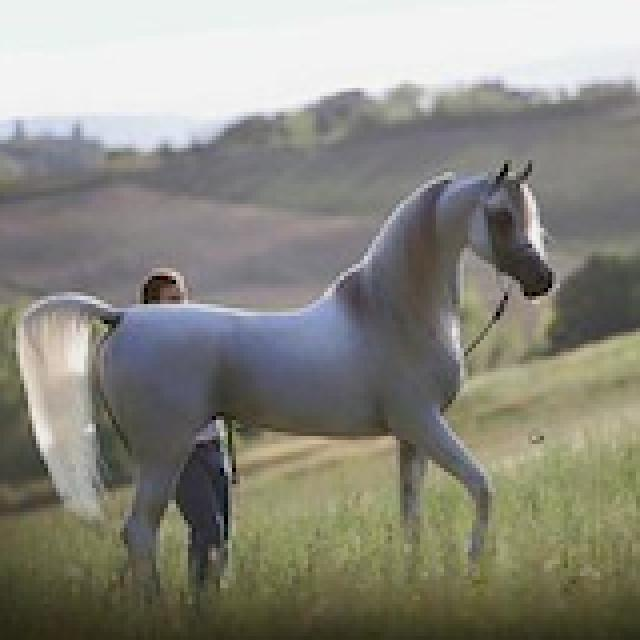Horse: (8, 152, 564, 608)
